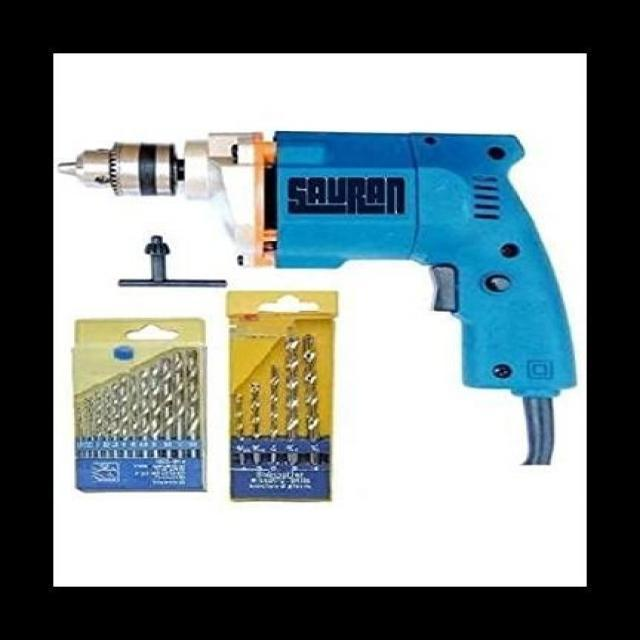drill: (57, 129, 580, 467), (225, 289, 342, 504), (70, 317, 208, 495)
